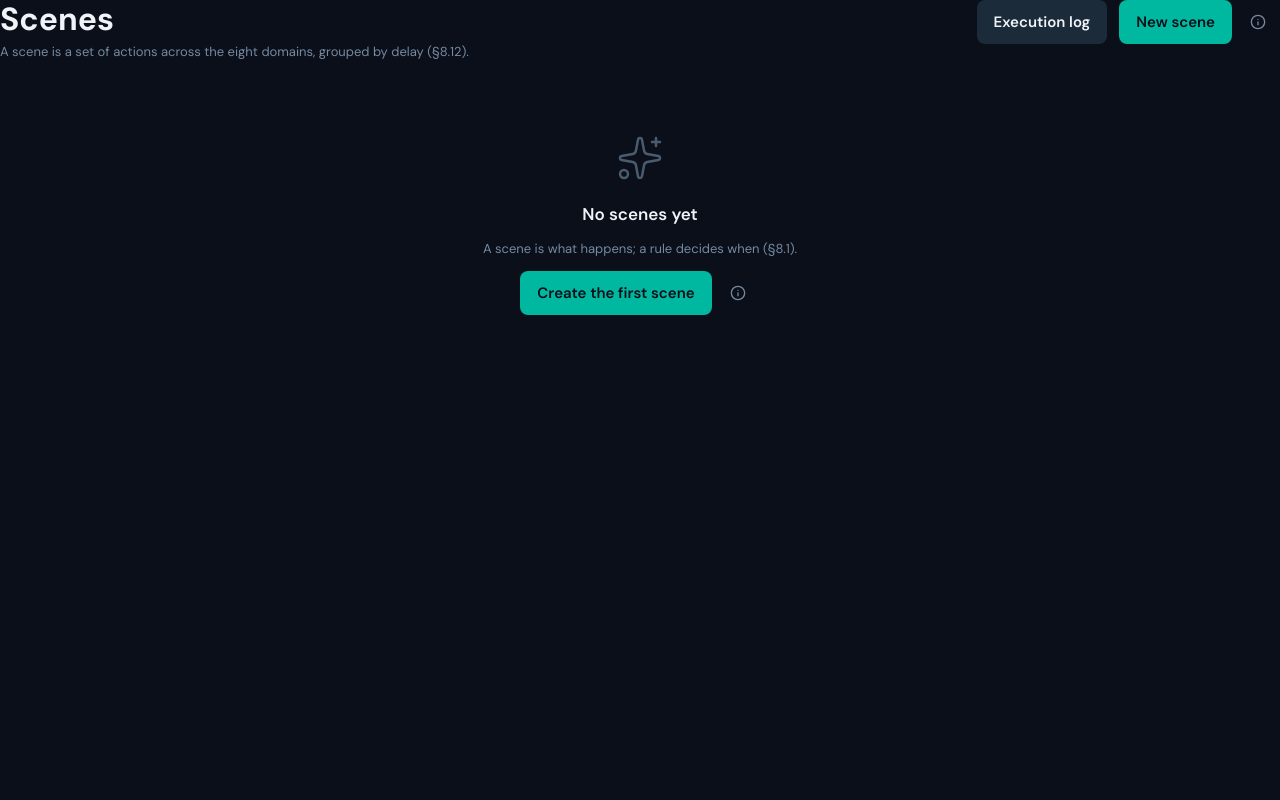
Test: ScenesScreen gives every field and primary action help (spec §19.1) › the empty state and the new-scene sheet
Step 1. Click the button "Create the first scene" → (616, 293), box x1=520 y1=271 x2=712 y2=315
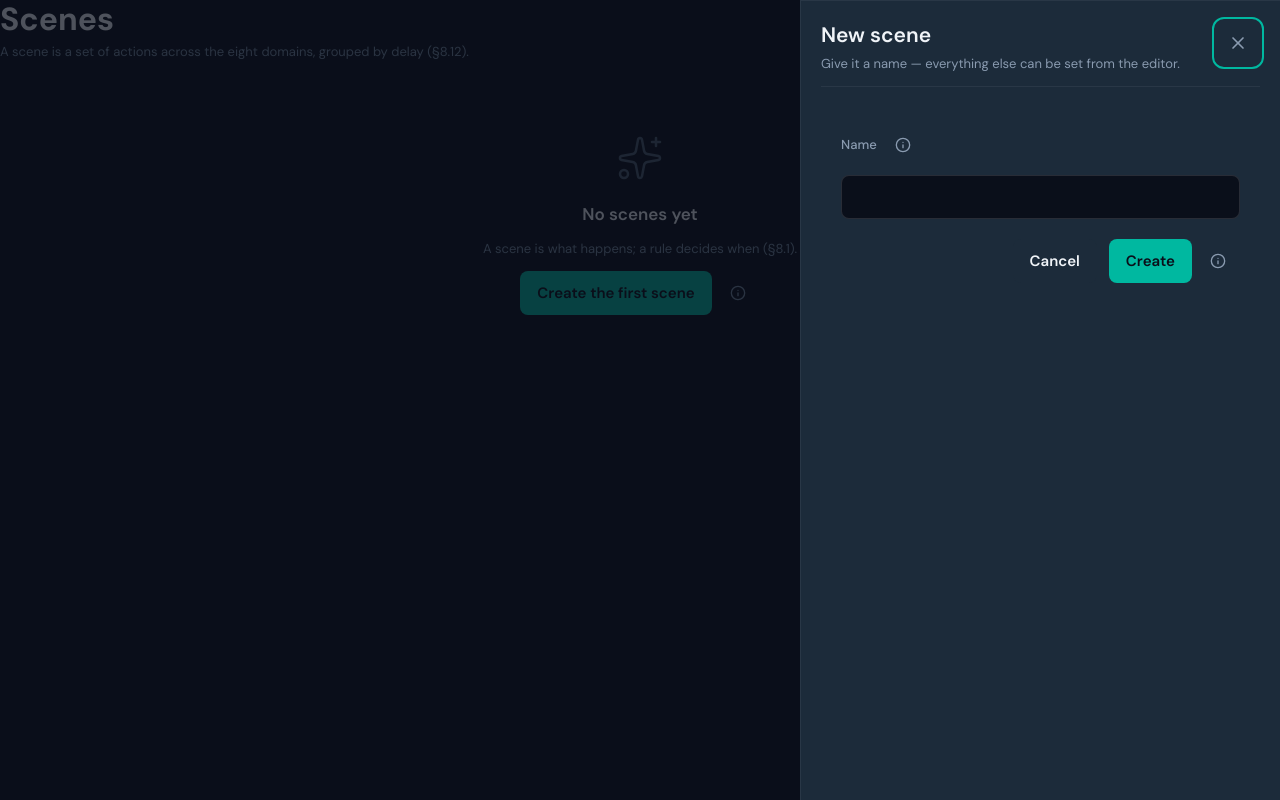
Now the dialog "New scene" is shown, box x1=800 y1=0 x2=1279 y2=799
